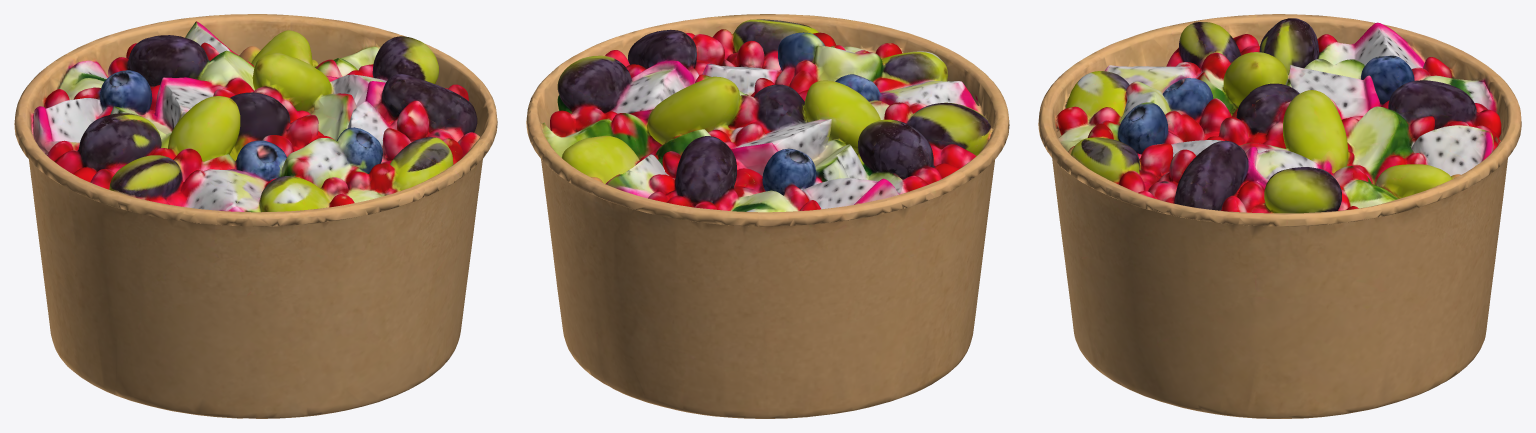
Rendered from Elite_Bowl.glb.
The picture shows the model from 3 angles, left to right: view 1: azimuth 30°, elevation 25°; view 2: azimuth 150°, elevation 25°; view 3: azimuth 270°, elevation 25°; orthographic projection.
Size of the model in its own units: 1.9 by 1.13 by 1.9.
Materials: 1 (1 with a texture image).
